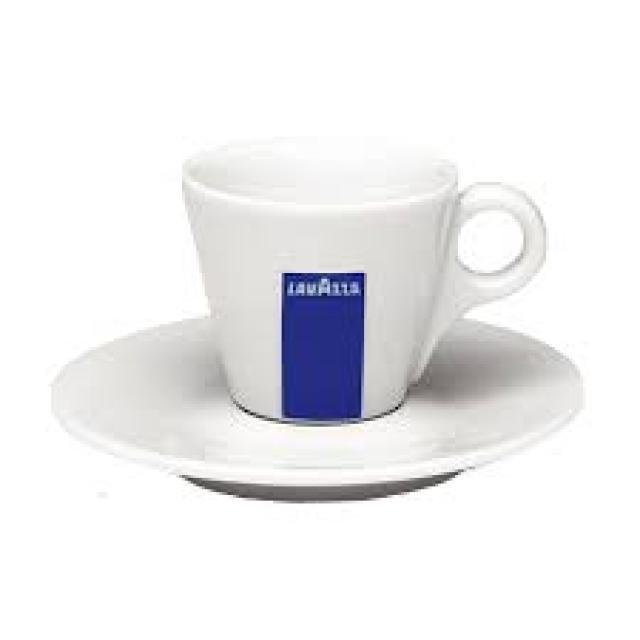taza: (162, 112, 560, 434)
